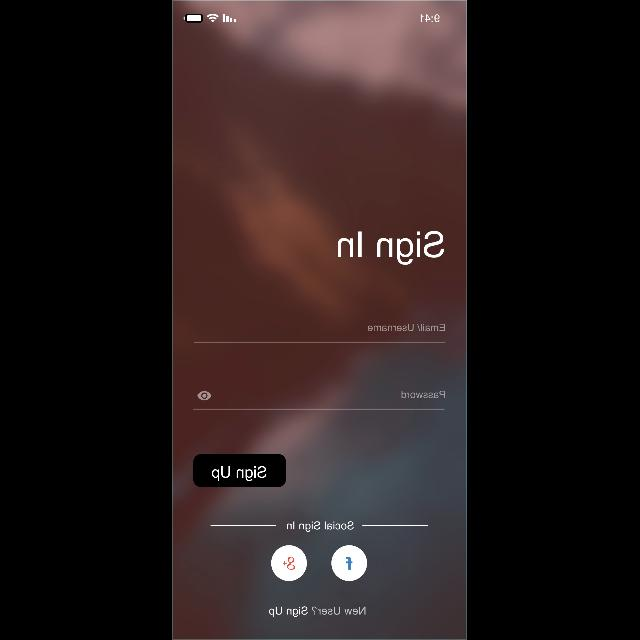backgroundimage: (172, 1, 468, 640)
icon: (272, 545, 308, 581), (332, 545, 368, 581), (198, 392, 212, 401)
input: (194, 390, 446, 410), (194, 323, 446, 342)
text: (338, 231, 446, 265), (270, 606, 366, 618), (288, 522, 354, 532), (368, 323, 446, 331), (402, 390, 446, 398)
textbutton: (194, 454, 286, 488)
uppertaskbar: (184, 14, 440, 22)
